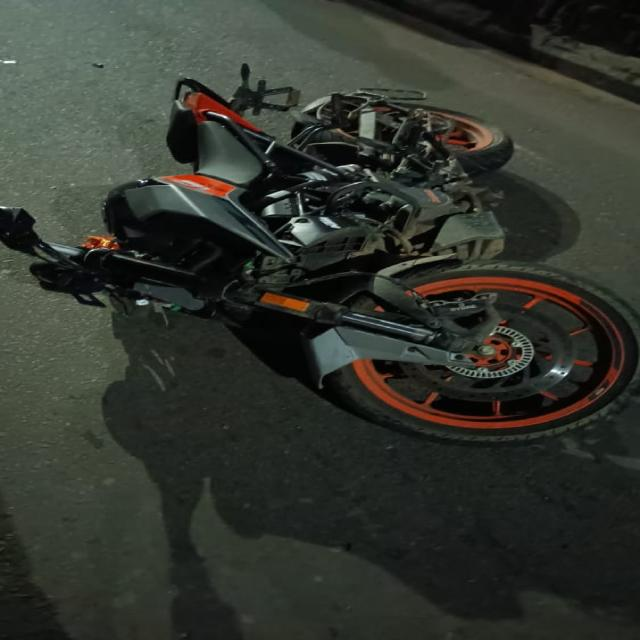accident: (0, 65, 637, 442)
